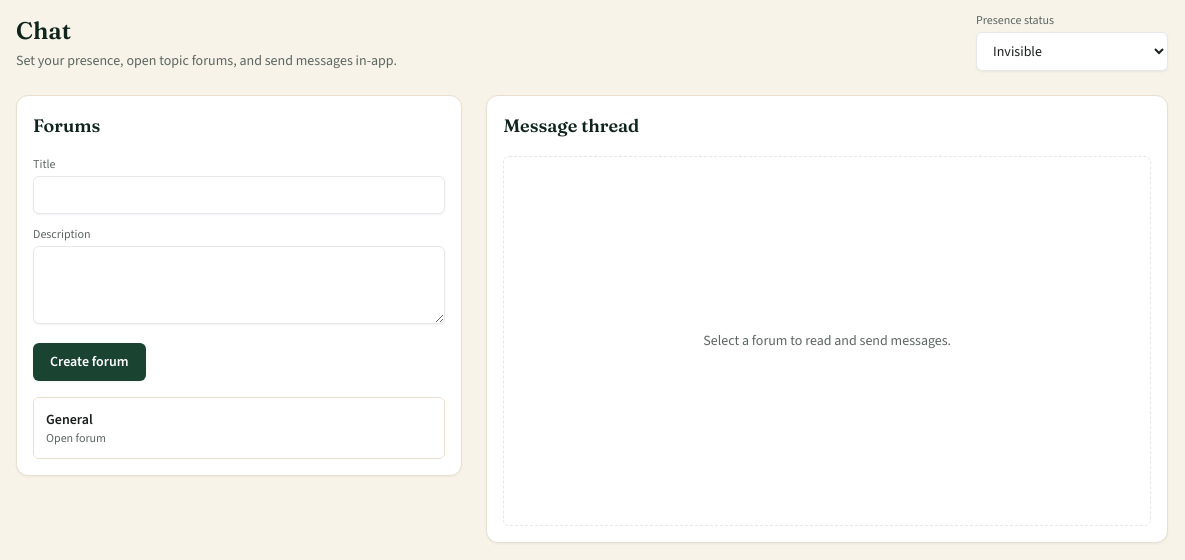
ChatPage (US-030 / #346) › keeps message draft when send validation fails from API
Click the text "General" at (69, 420), box 46,410 -> 93,429
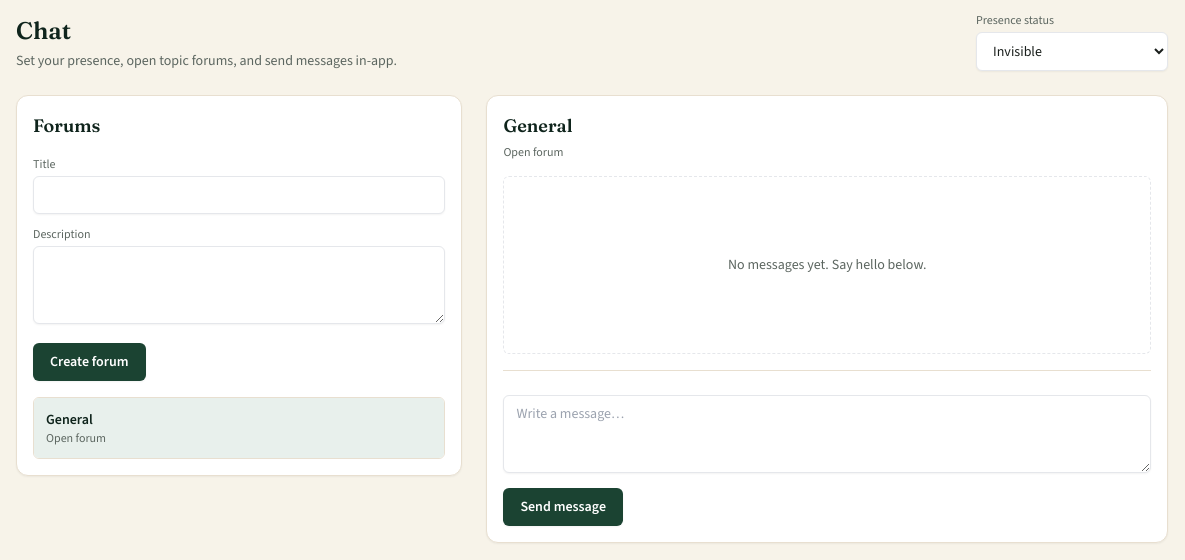
Expected: the form with test id "send-message-form" is shown, 503,370 -> 1151,526
Type "hello" into the text box labelled "Write a message…" at (827, 434), box 503,395 -> 1151,473
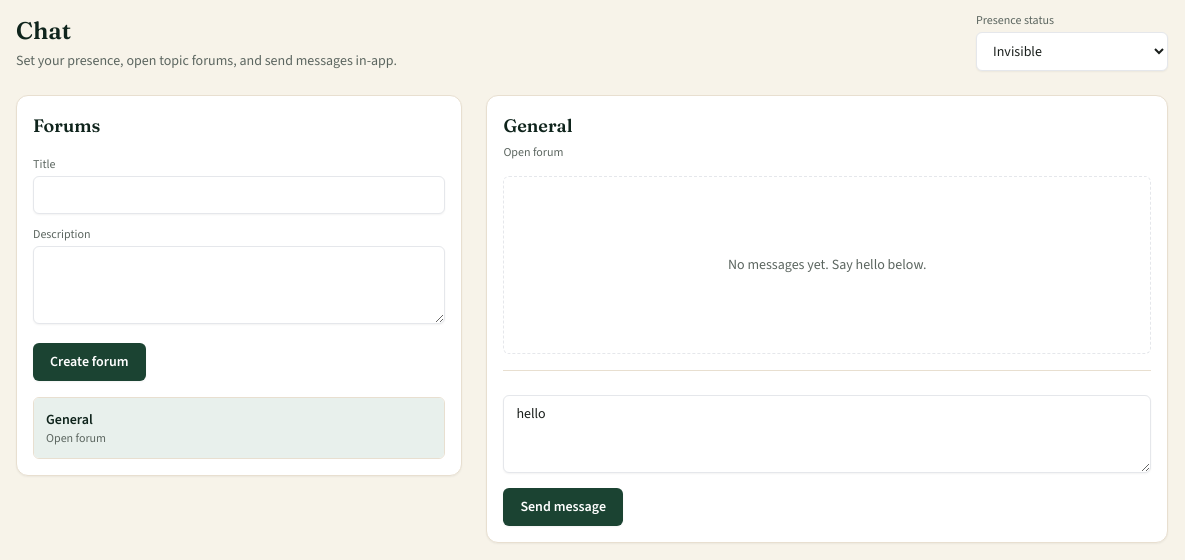
Submit the form with test id "send-message-form", box 503,370 -> 1151,526
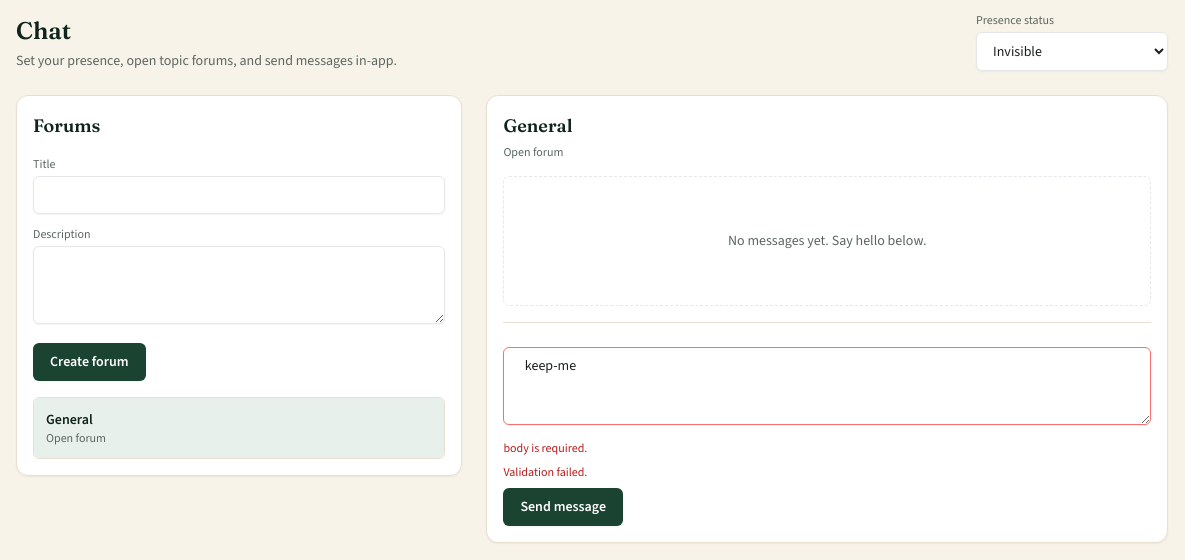
Now the text box named "message" holds "   keep-me   ", box 503,347 -> 1151,425
